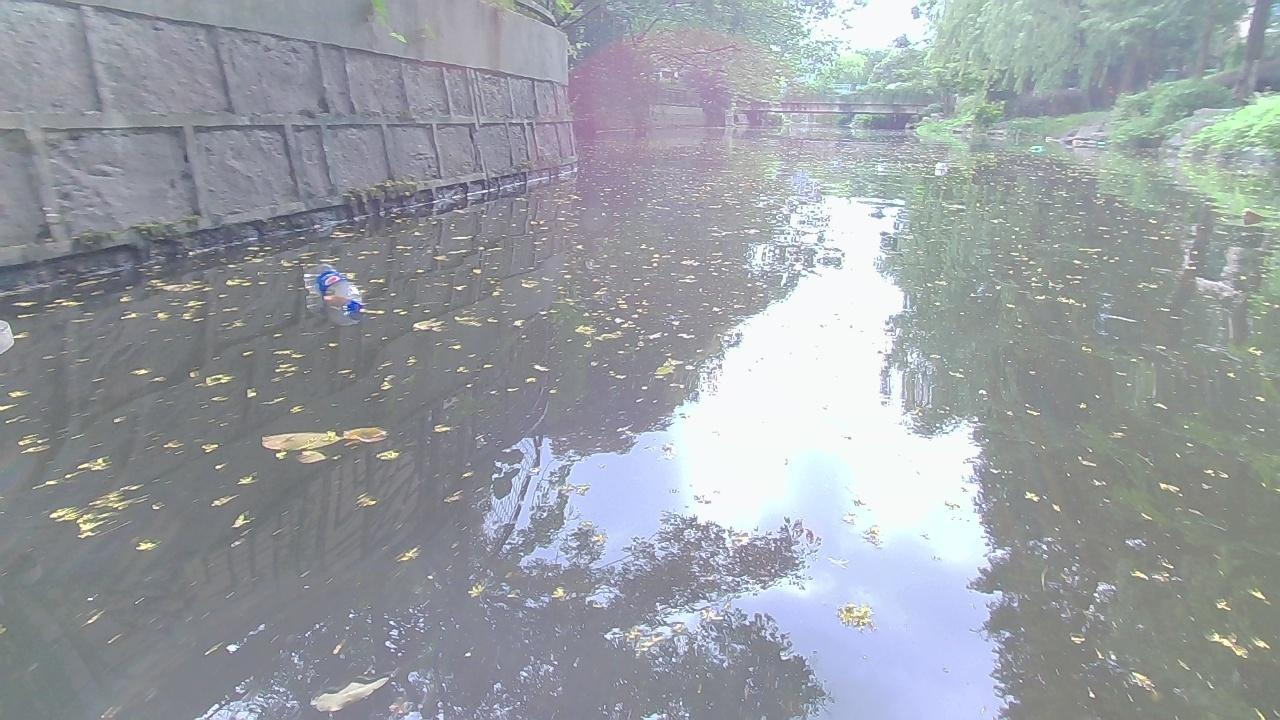bottle: (297, 261, 369, 315), (933, 159, 948, 171), (1026, 143, 1043, 150)
